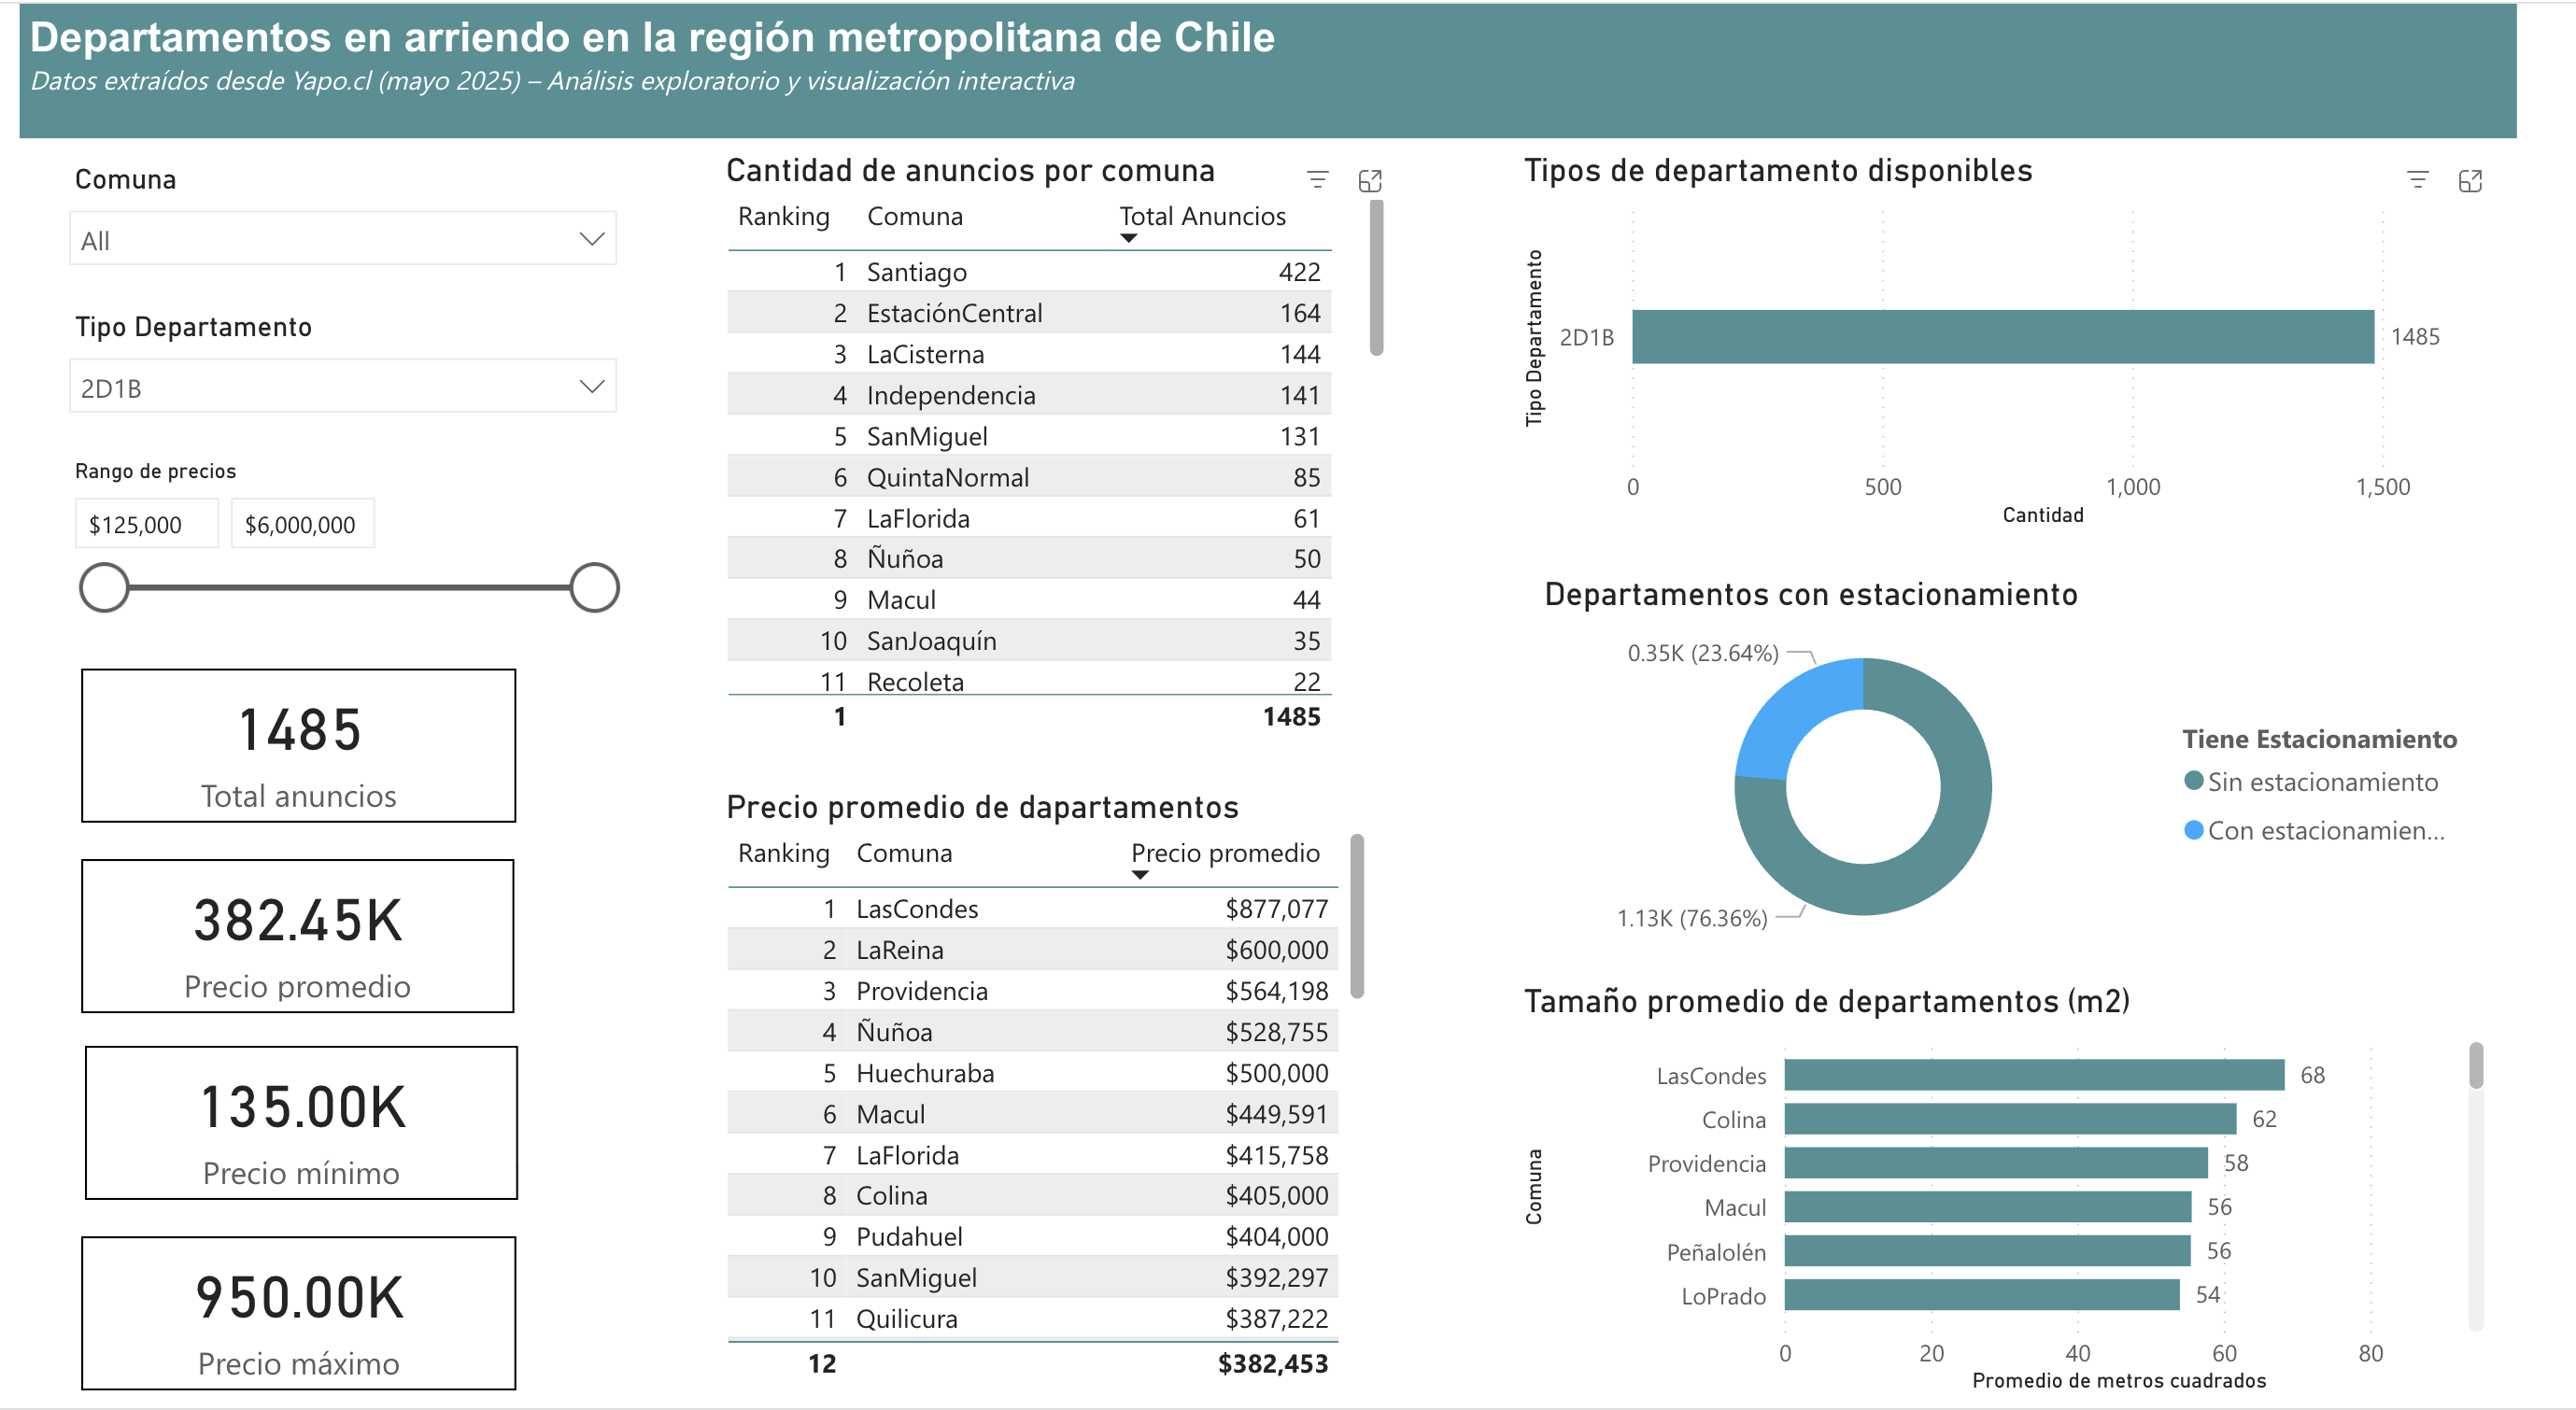

This screenshot's page, from the dashboard's own definition file:
{"tool":"powerbi","page":{"name":"Página 1","canvas":[1280,720],"ordinal":0},"visuals":[{"type":"barChart","title":"Tamaño promedio de departamentos (m2)","fields":{"Category":["apartments_rm_clean_yapo_may2025.Comuna"],"Y":["Avg(apartments_rm_clean_yapo_may2025.Metros Cuadrados)"]},"box":[766.2,503.6,502.3,212.9],"z":1000},{"type":"tableEx","title":"Cantidad de anuncios por comuna","fields":{"Values":["apartments_rm_clean_yapo_may2025.Ranking_anuncios","apartments_rm_clean_yapo_may2025.Comuna","apartments_rm_clean_yapo_may2025.TotalAnuncios"]},"box":[357,77.8,348,302.2],"z":2000},{"type":"slicer","fields":{"Values":["apartments_rm_clean_yapo_may2025.Comuna"]},"box":[15.3,77.8,300.9,75.2],"z":3000},{"type":"tableEx","title":"Precio promedio de dapartamentos","fields":{"Values":["apartments_rm_clean_yapo_may2025.Ranking","apartments_rm_clean_yapo_may2025.Comuna","Avg(apartments_rm_clean_yapo_may2025.Precio_CLP)"]},"box":[357,404.1,337.8,307.3],"z":4000},{"type":"card","fields":{"Values":["Max(apartments_rm_clean_yapo_may2025.Precio_CLP)"]},"box":[31.9,632.4,223.1,79],"z":5000},{"type":"slicer","fields":{"Values":["apartments_rm_clean_yapo_may2025.TipoDepartamento"]},"box":[15.3,153,300.9,76.5],"z":6000},{"type":"card","fields":{"Values":["Min(apartments_rm_clean_yapo_may2025.Precio_CLP)"]},"box":[33.1,534.2,221.8,79],"z":7000},{"type":"card","fields":{"Values":["Avg(apartments_rm_clean_yapo_may2025.Precio_CLP)"]},"box":[31.9,438.6,221.8,79],"z":8000},{"type":"card","fields":{"Values":["apartments_rm_clean_yapo_may2025.TotalAnuncios"]},"box":[31.9,340.4,223.1,79],"z":9000},{"type":"slicer","fields":{"Values":["apartments_rm_clean_yapo_may2025.Precio_CLP"]},"box":[15.3,229.5,300.9,95.6],"z":10000},{"type":"textbox","box":[0,0,1280,68.8],"z":11000},{"type":"barChart","title":"Tipos de departamento disponibles","fields":{"Category":["apartments_rm_clean_yapo_may2025.TipoDepartamento"],"Y":["CountNonNull(apartments_rm_clean_yapo_may2025.TipoDepartamento)"]},"box":[766.2,77.8,502.3,195.1],"z":12000},{"type":"donutChart","title":"Departamentos con estacionamiento","fields":{"Category":["apartments_rm_clean_yapo_may2025.TieneEstacionamiento"],"Y":["CountNonNull(apartments_rm_clean_yapo_may2025.TieneEstacionamiento)"]},"box":[776.4,294.5,492.1,197.6],"z":13000}]}

Visuals, with their boxes in screenshot pixels (x1, y1, x2, y2), scaled from the page's 1280x720 canvas onto the 2576x1410 screenshot:
"Tamaño promedio de departamentos (m2)" barChart: left=1542, top=986, right=2553, bottom=1403
"Cantidad de anuncios por comuna" tableEx: left=718, top=152, right=1419, bottom=744
slicer - apartments_rm_clean_yapo_may2025.Comuna: left=31, top=152, right=636, bottom=300
"Precio promedio de dapartamentos" tableEx: left=718, top=791, right=1398, bottom=1393
card - Max(apartments_rm_clean_yapo_may2025.Precio_CLP): left=64, top=1238, right=513, bottom=1393
slicer - apartments_rm_clean_yapo_may2025.TipoDepartamento: left=31, top=300, right=636, bottom=449
card - Min(apartments_rm_clean_yapo_may2025.Precio_CLP): left=66, top=1046, right=513, bottom=1201
card - Avg(apartments_rm_clean_yapo_may2025.Precio_CLP): left=64, top=859, right=511, bottom=1014
card - apartments_rm_clean_yapo_may2025.TotalAnuncios: left=64, top=667, right=513, bottom=822
slicer - apartments_rm_clean_yapo_may2025.Precio_CLP: left=31, top=449, right=636, bottom=637
textbox: left=0, top=0, right=2575, bottom=134
"Tipos de departamento disponibles" barChart: left=1542, top=152, right=2553, bottom=534
"Departamentos con estacionamiento" donutChart: left=1563, top=577, right=2553, bottom=964
